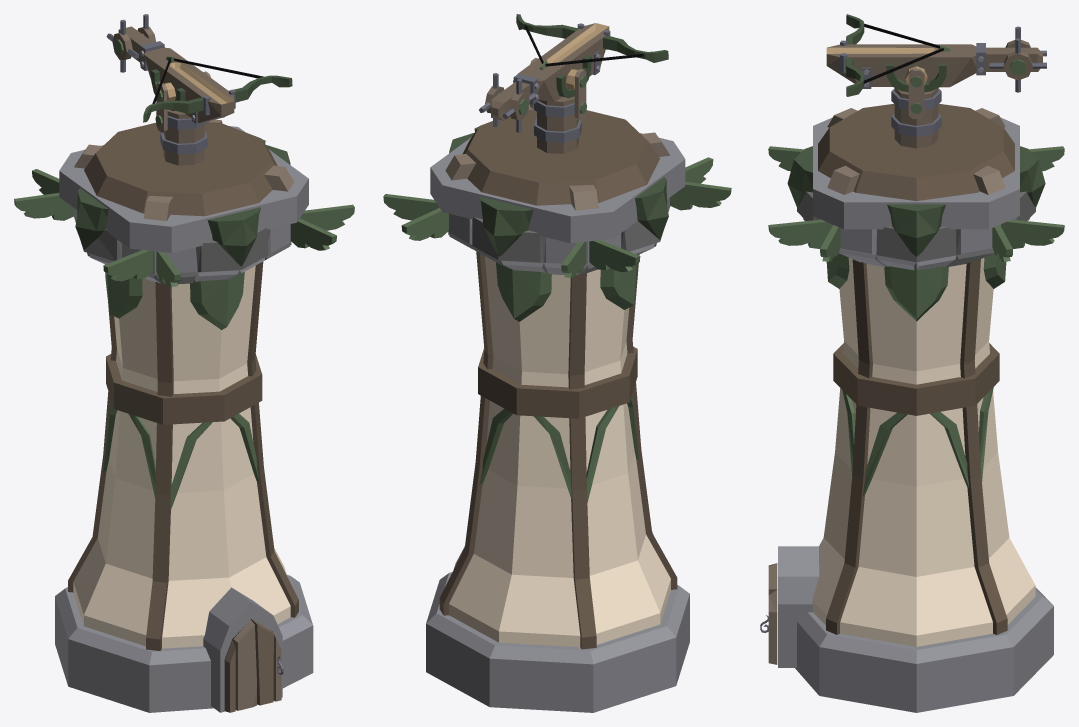
Rendered from tower_finish.fbx.
3 renders of one model, left to right at view 1: azimuth 30°, elevation 25°; view 2: azimuth 150°, elevation 25°; view 3: azimuth 270°, elevation 25°, orthographic. The views are drawn at different scales.
Visible parts, largest first — view 1: Ballista_tower_LVL_2, crossbow_LVL_2, base_LVL_2; view 2: Ballista_tower_LVL_2, crossbow_LVL_2, base_LVL_2; view 3: Ballista_tower_LVL_2, crossbow_LVL_2, base_LVL_2.
Boxes of the visible parts, left/top/right/bottom form: Ballista_tower_LVL_2: left=14, top=119, right=354, bottom=712; crossbow_LVL_2: left=106, top=14, right=292, bottom=123; base_LVL_2: left=155, top=71, right=210, bottom=165; Ballista_tower_LVL_2: left=383, top=106, right=731, bottom=712; crossbow_LVL_2: left=479, top=14, right=668, bottom=132; base_LVL_2: left=529, top=58, right=586, bottom=153; Ballista_tower_LVL_2: left=760, top=103, right=1064, bottom=712; crossbow_LVL_2: left=826, top=14, right=1046, bottom=96; base_LVL_2: left=891, top=66, right=941, bottom=148.
Bounding box in the file's own units: 611 × 1413 × 628.
